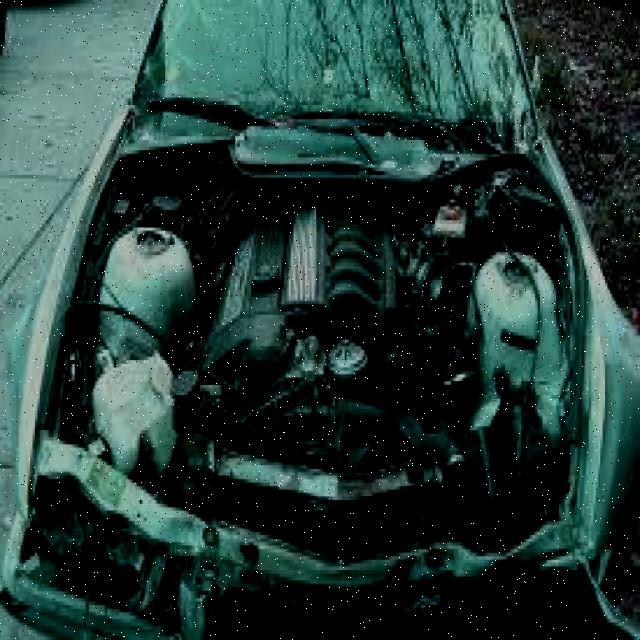car damage: (4, 308, 640, 640)
